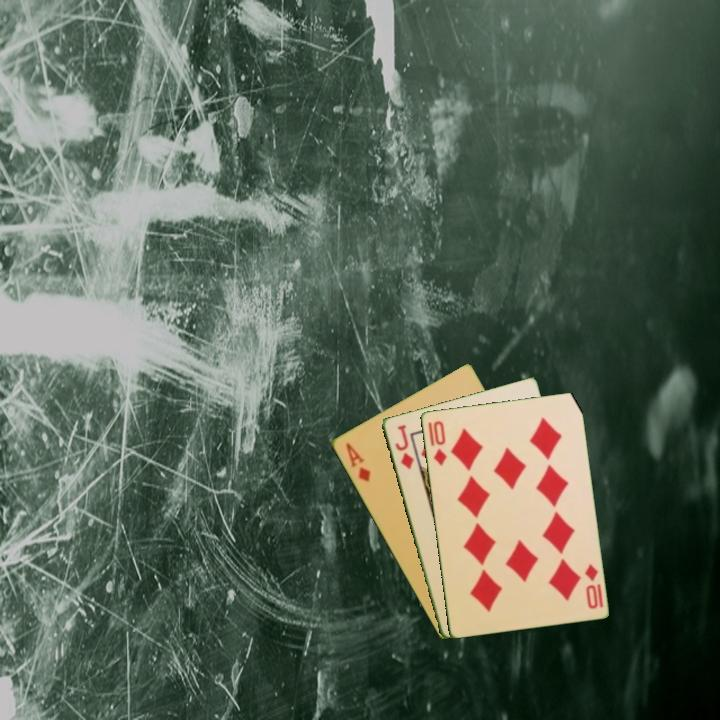10d: (581, 560, 601, 612), (429, 417, 449, 468)
Ad: (342, 439, 373, 485)
Jd: (391, 421, 417, 472)
